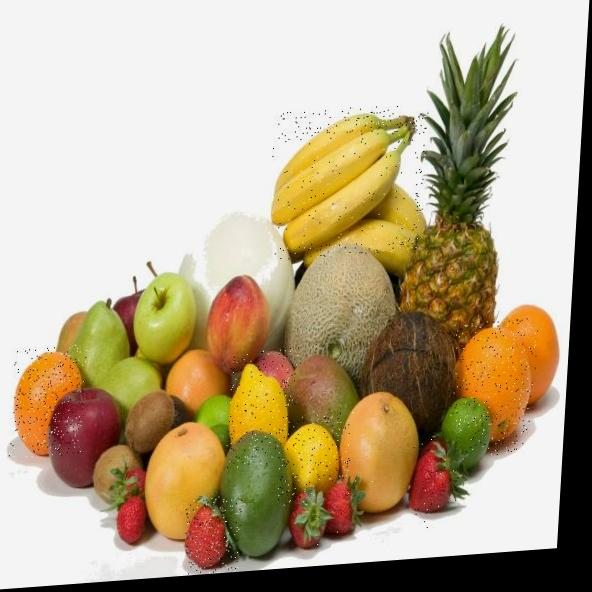Banana: (270, 102, 429, 260), (265, 131, 418, 249)
Lemon: (225, 348, 299, 469), (275, 412, 353, 509)
Orange: (447, 318, 538, 459), (9, 344, 87, 459)
Strawberry: (408, 431, 471, 531), (182, 495, 241, 576), (313, 478, 374, 548)
